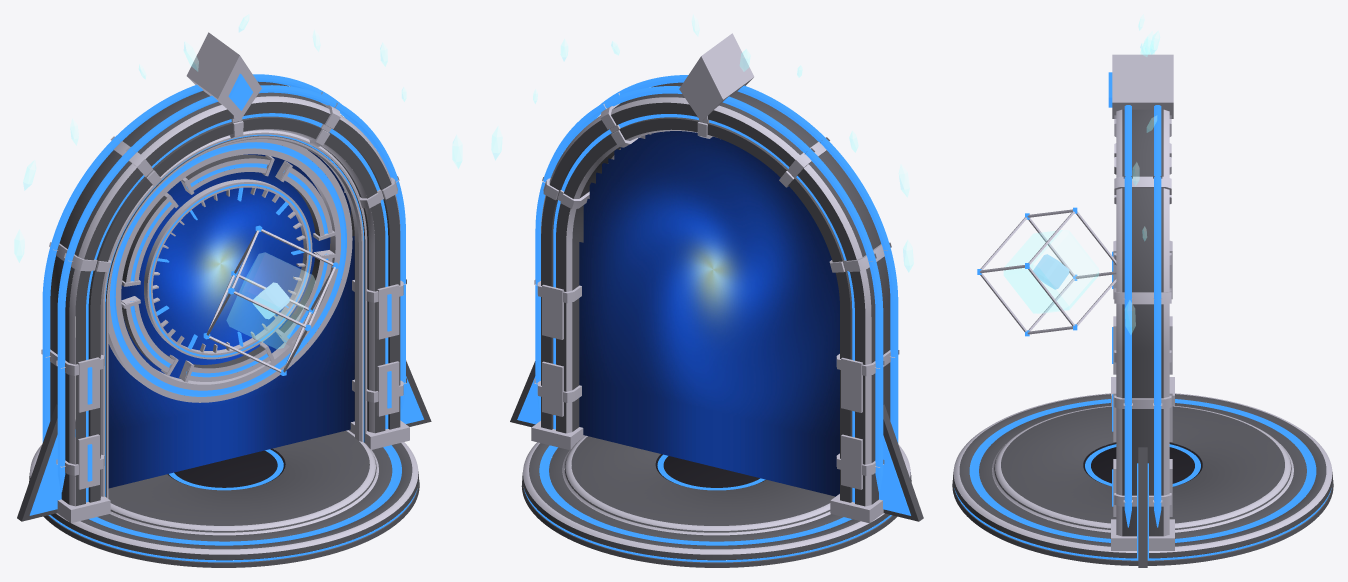
File: Portal_Projects_web.glb
3 renders of one model, left to right at view 1: azimuth 30°, elevation 25°; view 2: azimuth 150°, elevation 25°; view 3: azimuth 270°, elevation 25°, orthographic. The views are drawn at different scales.
Visible parts, largest first — view 1: Portal_Projects_Membrane, Portal_Projects_Frame, Portal_Projects_Base, Portal_Projects, Portal_Projects_Conduits, Portal_Projects_Details, Portal_Projects_Symbol, Portal_Projects_Symbol_Cage, Portal_Projects_Accents, Portal_Projects_Symbol_Core; view 2: Portal_Projects_Membrane, Portal_Projects_Frame, Portal_Projects_Base, Portal_Projects_Conduits, Portal_Projects_Details, Portal_Projects_Accents; view 3: Portal_Projects_Base, Portal_Projects_Frame, Portal_Projects_Conduits, Portal_Projects_Symbol, Portal_Projects_Details, Portal_Projects_Symbol_Cage, Portal_Projects_Accents, Portal_Projects_Symbol_Core.
Part boxes in pixels (box(x1,y1,x2,y2)): Portal_Projects_Membrane: box(108, 150, 354, 488); Portal_Projects_Frame: box(50, 32, 403, 506); Portal_Projects_Base: box(29, 420, 419, 567); Portal_Projects: box(108, 139, 352, 402); Portal_Projects_Conduits: box(42, 74, 405, 492); Portal_Projects_Details: box(17, 92, 431, 523); Portal_Projects_Symbol: box(226, 252, 315, 348); Portal_Projects_Symbol_Cage: box(203, 225, 338, 375); Portal_Projects_Accents: box(14, 14, 462, 262); Portal_Projects_Symbol_Core: box(252, 282, 289, 319); Portal_Projects_Membrane: box(579, 131, 839, 496); Portal_Projects_Frame: box(537, 33, 890, 506); Portal_Projects_Base: box(521, 435, 911, 567); Portal_Projects_Conduits: box(535, 75, 898, 492); Portal_Projects_Details: box(510, 93, 923, 523); Portal_Projects_Accents: box(491, 14, 913, 271); Portal_Projects_Base: box(952, 393, 1333, 565); Portal_Projects_Frame: box(1108, 54, 1173, 536); Portal_Projects_Conduits: box(1124, 105, 1161, 527); Portal_Projects_Symbol: box(1004, 230, 1098, 313); Portal_Projects_Details: box(1111, 176, 1174, 567); Portal_Projects_Symbol_Cage: box(977, 207, 1116, 336); Portal_Projects_Accents: box(1125, 14, 1159, 334); Portal_Projects_Symbol_Core: box(1033, 254, 1069, 289).
Size of the model in its own units: 8.32 by 8.49 by 6.44.
7 materials, 1 textured.
